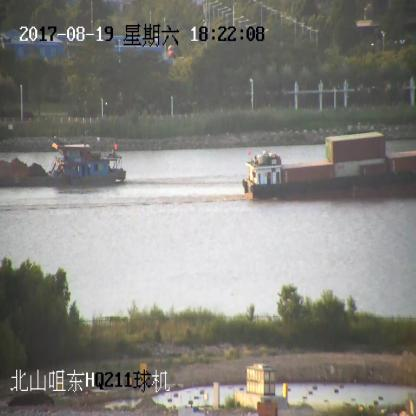Container Ship: (243, 131, 416, 201)
